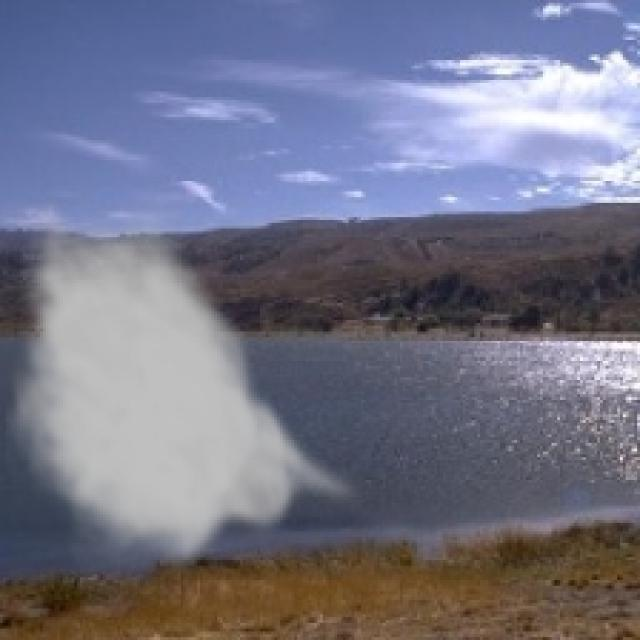smoke: (6, 200, 366, 577)
